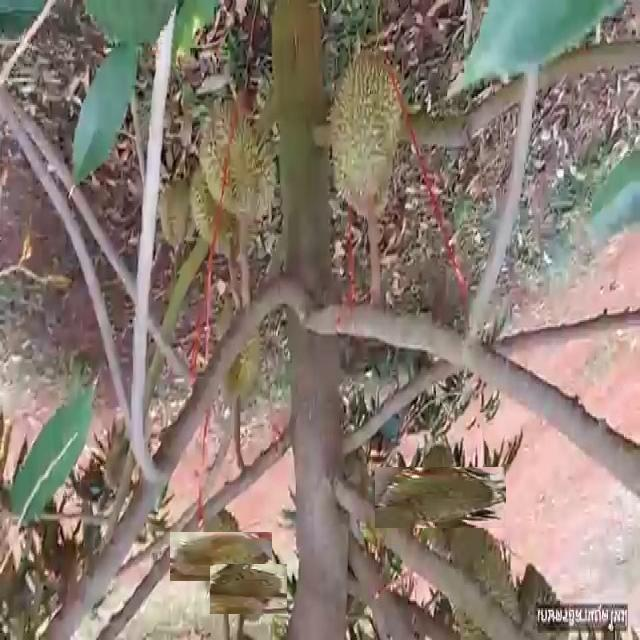durian: (328, 51, 406, 223), (195, 100, 284, 223), (393, 449, 489, 546), (186, 162, 262, 260), (212, 302, 266, 422), (183, 519, 259, 595), (216, 557, 280, 621), (158, 172, 197, 251)
